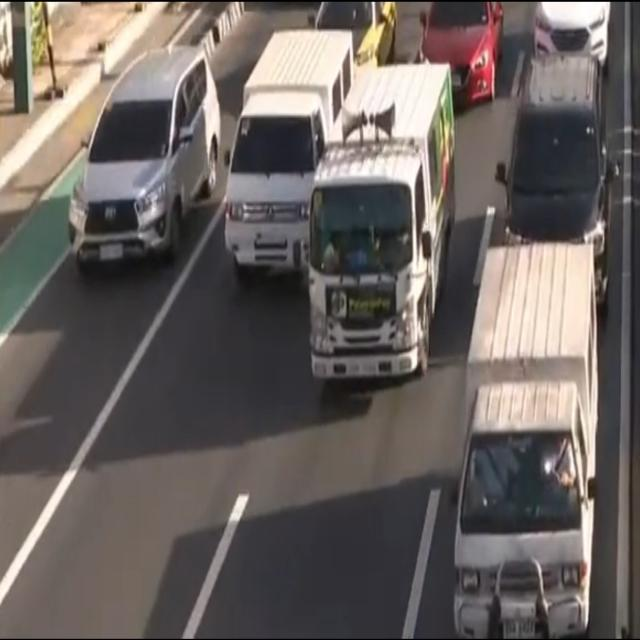Pick-up: (447, 247, 601, 640), (228, 28, 352, 277)
SUV: (68, 46, 222, 272), (502, 55, 609, 312)
Sedan: (416, 2, 504, 112), (306, 2, 400, 70)
Truck: (311, 70, 457, 384)
